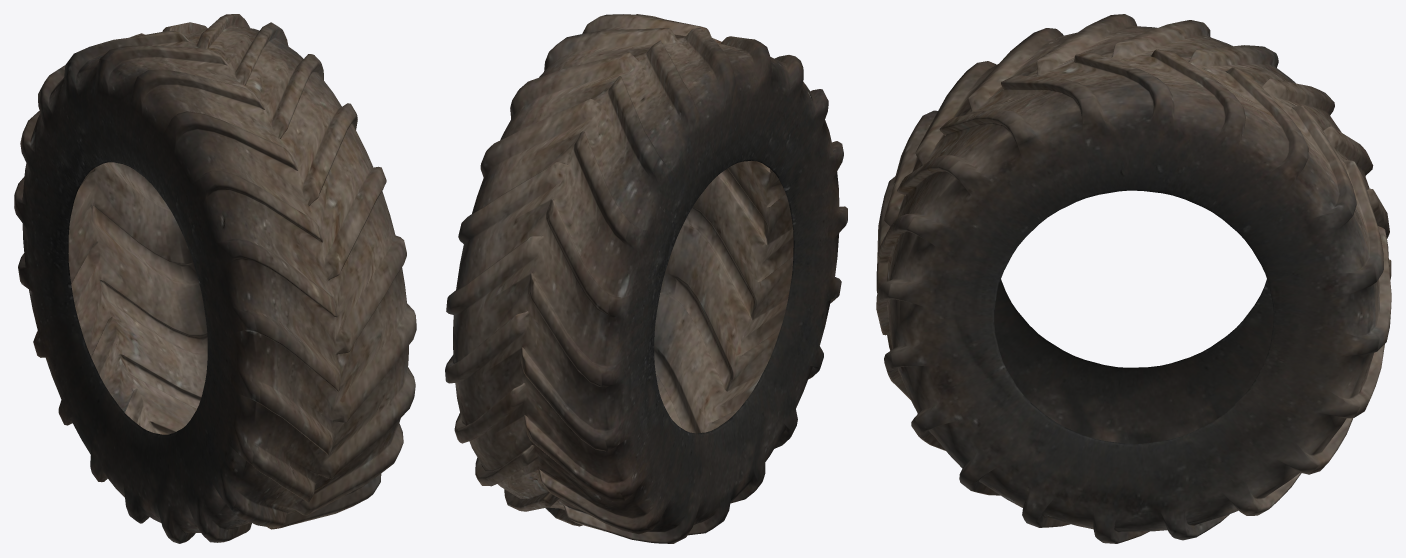
File: RearTire.gltf
3 views of the same model, side by side, from view 1: azimuth 30°, elevation 25°; view 2: azimuth 150°, elevation 25°; view 3: azimuth 270°, elevation 25° (orthographic).
Parts seen in each view (by area): view 1: AM115_026_68; view 2: AM115_026_68; view 3: AM115_026_68.
Boxes of the visible parts, <box> form: AM115_026_68: <box>14,14,416,543</box>; AM115_026_68: <box>445,14,847,543</box>; AM115_026_68: <box>876,14,1391,543</box>.
Bounding box in the file's own units: 0.6728 × 1.8 × 1.8.
Materials: 1 (1 with a texture image).
